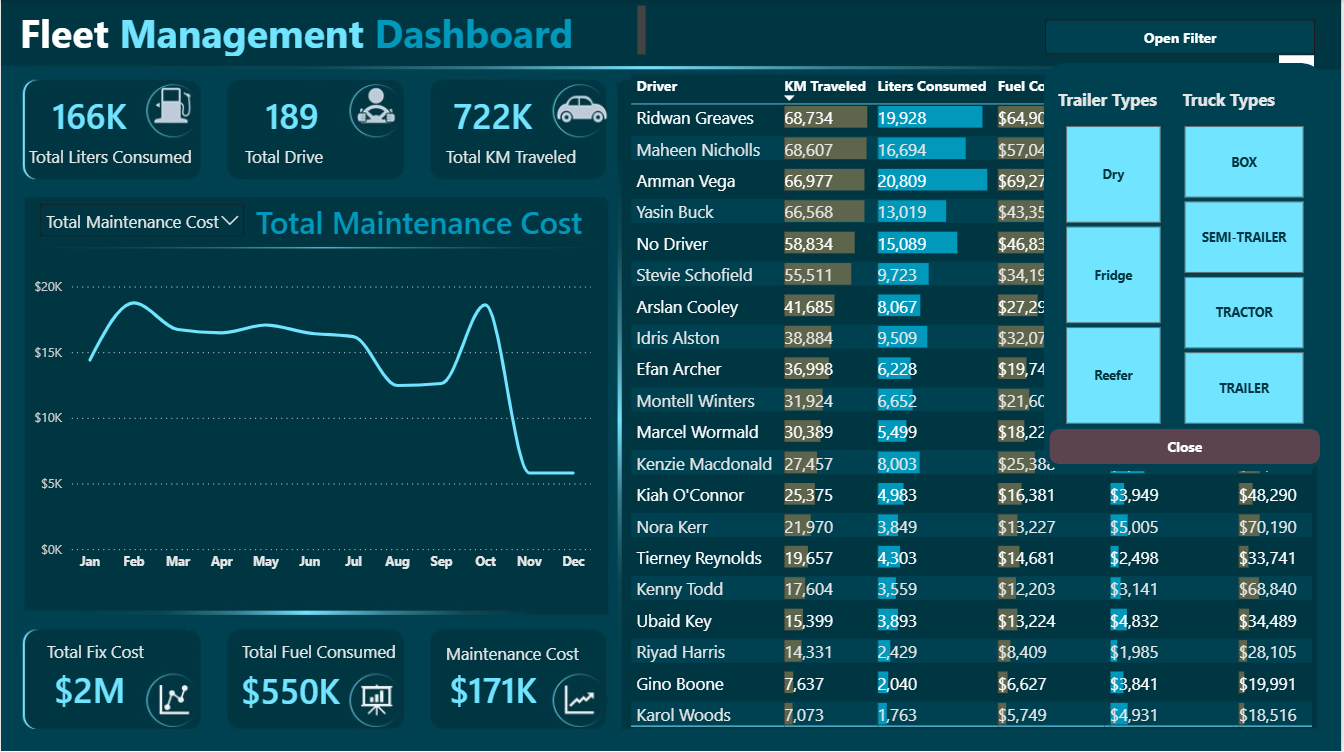

The page's visual inventory and layout, read from the dashboard file:
{"tool":"powerbi","page":{"name":"Driver Dashboard","canvas":[1280,720],"ordinal":0},"visuals":[{"type":"tableEx","fields":{"Values":["Dim_Drivers.Driver","Measure Table.Total KM Traveled","Measure Table.Total Liters Consumed","Measure Table.Total Fuel Consumed","Measure Table.Total Maintenance Cost","Measure Table.Total Fix Cost"]},"box":[595.3,66,673.4,634.4],"z":0},{"type":"lineChart","fields":{"Y":["Measure Table.Total Maintenance Cost"],"Category":["DateTable.Months.Year","DateTable.Months.Month","DateTable.Months.Quarter"]},"box":[26.3,259.6,542.1,294.7],"z":1000},{"type":"slicer","fields":{"Values":["Switch Driver Measures.Switch Driver Measures"]},"box":[27.7,185.4,214.7,47.2],"z":2000},{"type":"cardVisual","fields":{"Data":["Measure Table.Total Liters Consumed"]},"box":[0,57.7,169.2,102.5],"z":3000},{"type":"cardVisual","fields":{"Data":["Measure Table.Total Drive"]},"box":[192.7,58.6,169.2,100.8],"z":4000},{"type":"cardVisual","fields":{"Data":["Measure Table.Total KM Traveled"]},"box":[385.5,59.4,169.2,99.2],"z":5000},{"type":"cardVisual","fields":{"Data":["Measure Table.Total Fix Cost"]},"box":[0,606.7,169.2,99.2],"z":6000},{"type":"cardVisual","fields":{"Data":["Measure Table.Total Fuel Consumed"]},"box":[192.3,607.7,169.2,100],"z":7000},{"type":"cardVisual","fields":{"Data":["Measure Table.Total Maintenance Cost"]},"box":[385.5,606.7,169.2,99.2],"z":8000},{"type":"cardVisual","fields":{"Rows":["Switch Driver Measures.Switch Driver Measures"]},"box":[226.1,172.4,357.8,118.7],"z":9000},{"type":"textbox","box":[13.4,0,607.5,58.2],"z":10000},{"type":"shape","box":[996.7,18.3,258.3,33.3],"z":11000},{"type":"textbox","box":[21.1,133.3,177.2,50.9],"z":13000},{"type":"textbox","box":[228.1,133.3,96.5,50.9],"z":14000},{"type":"textbox","box":[419.3,133.3,164.9,50.9],"z":15000},{"type":"textbox","box":[38.6,605.3,193,50.9],"z":16000},{"type":"textbox","box":[224.6,605.3,184.2,50.9],"z":17000},{"type":"textbox","box":[419.3,607,175.4,50.9],"z":18000}]}

Visuals, with their boxes in screenshot pixels (x1, y1, x2, y2), scaled from the page's 1280x720 canvas onto the 1344x752 screenshot:
tableEx - Dim_Drivers.Driver x Measure Table.Total KM Traveled: rect(625, 69, 1332, 732)
lineChart - Measure Table.Total Maintenance Cost x DateTable.Months.Year: rect(28, 271, 597, 579)
slicer - Switch Driver Measures.Switch Driver Measures: rect(29, 194, 255, 243)
cardVisual - Measure Table.Total Liters Consumed: rect(0, 60, 178, 167)
cardVisual - Measure Table.Total Drive: rect(202, 61, 380, 166)
cardVisual - Measure Table.Total KM Traveled: rect(405, 62, 582, 166)
cardVisual - Measure Table.Total Fix Cost: rect(0, 634, 178, 737)
cardVisual - Measure Table.Total Fuel Consumed: rect(202, 635, 380, 739)
cardVisual - Measure Table.Total Maintenance Cost: rect(405, 634, 582, 737)
cardVisual - Switch Driver Measures.Switch Driver Measures: rect(237, 180, 613, 304)
textbox: rect(14, 0, 652, 61)
shape: rect(1047, 19, 1318, 54)
textbox: rect(22, 139, 208, 192)
textbox: rect(240, 139, 341, 192)
textbox: rect(440, 139, 613, 192)
textbox: rect(41, 632, 243, 685)
textbox: rect(236, 632, 429, 685)
textbox: rect(440, 634, 624, 687)
